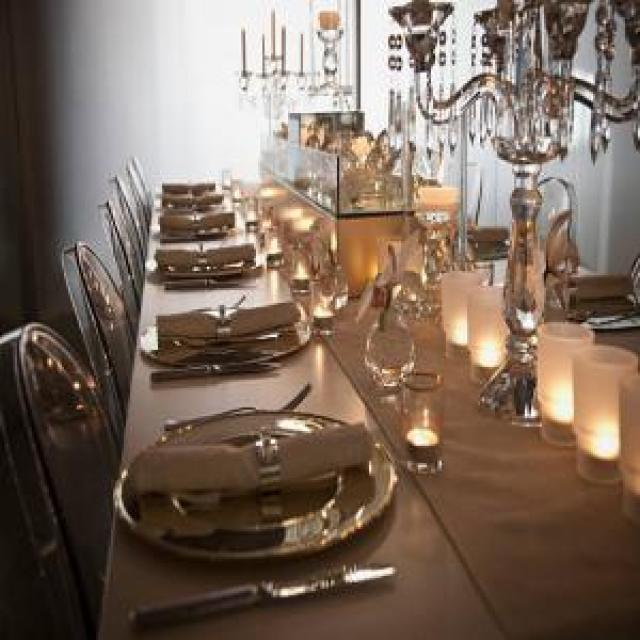knife: (130, 559, 398, 636), (152, 350, 278, 387), (158, 271, 247, 291)
